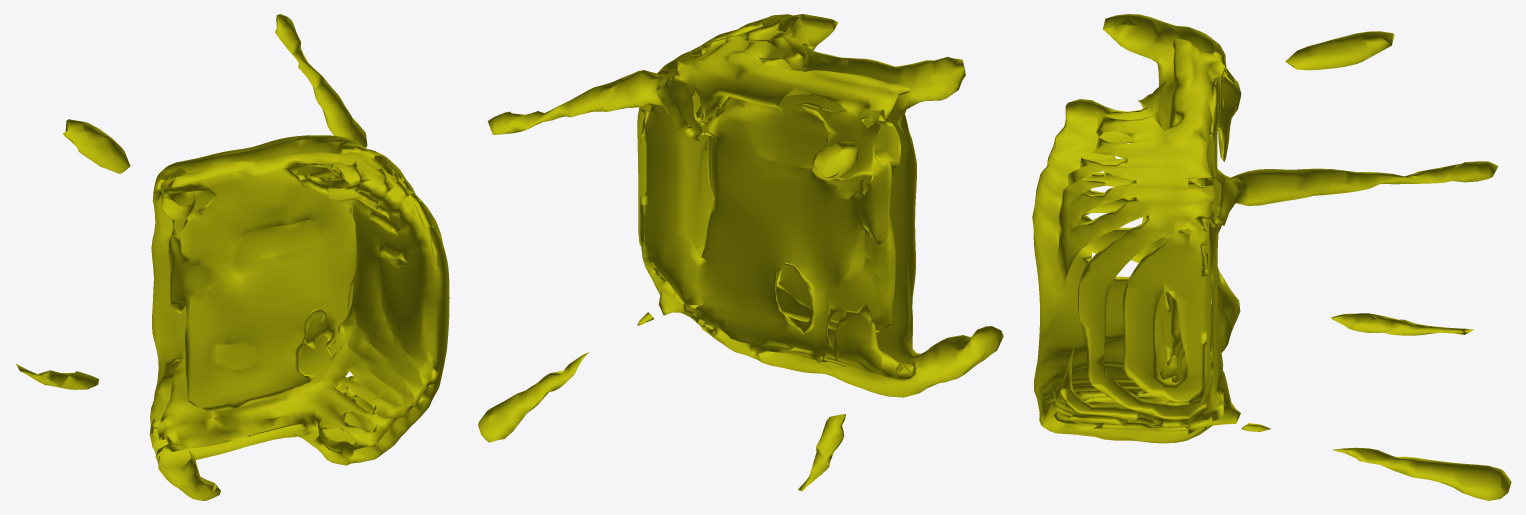
3 views of the same model, side by side, from view 1: azimuth 30°, elevation 25°; view 2: azimuth 150°, elevation 25°; view 3: azimuth 270°, elevation 25° (orthographic). The views are drawn at different scales.
Visible parts, largest first — view 1: world; view 2: world; view 3: world.
Boxes of the visible parts, x1,y1,x2,y2 form: world: (16,14,449,500); world: (478,14,1003,491); world: (1032,14,1511,500).
Bounding box in the file's own units: 32.22 × 31.6 × 39.89.
